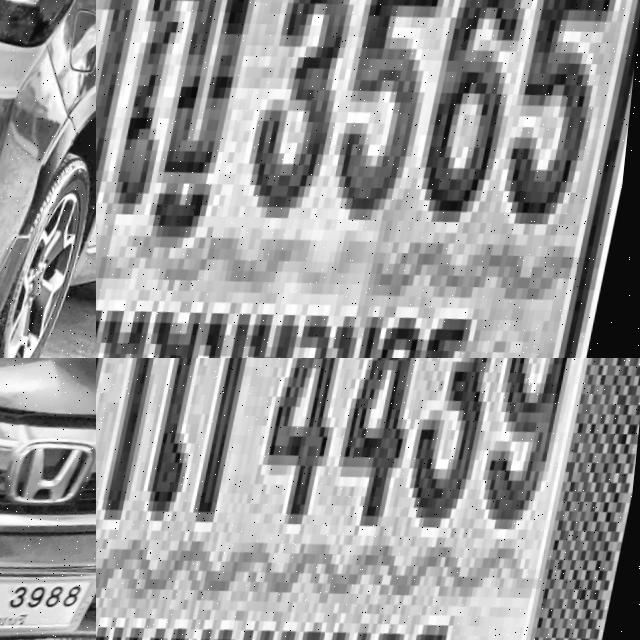license-plate: (96, 0, 640, 358), (96, 358, 640, 640), (0, 562, 96, 640)
